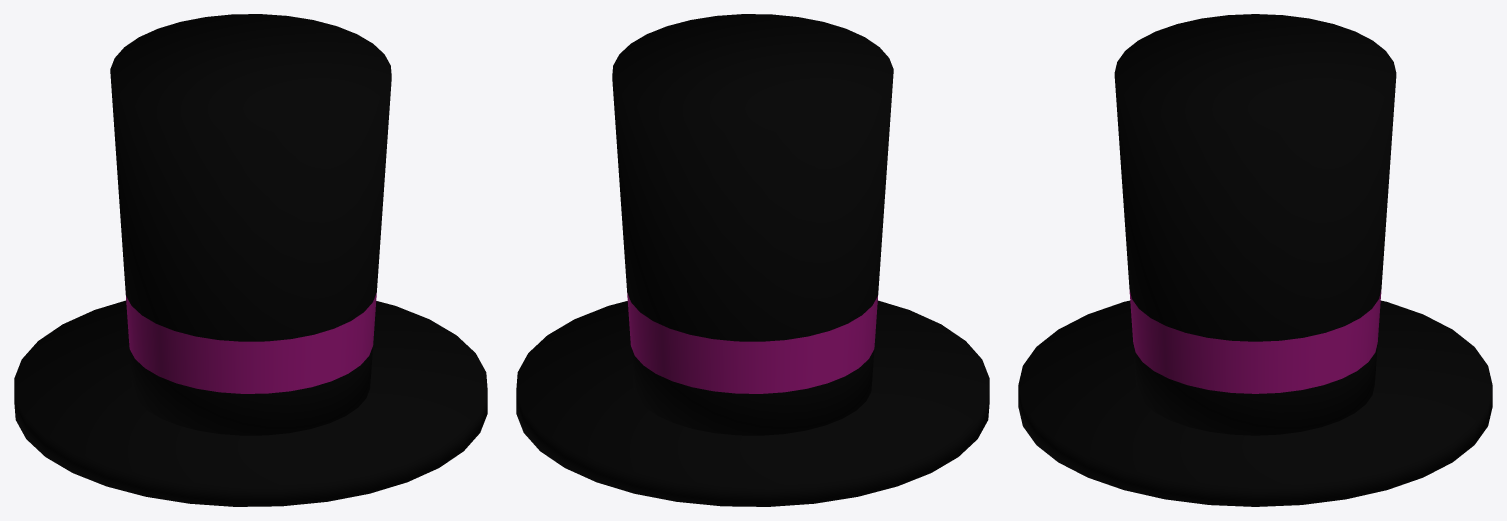
File: hat.glb
3 views of the same model, side by side, from view 1: azimuth 30°, elevation 25°; view 2: azimuth 150°, elevation 25°; view 3: azimuth 270°, elevation 25° (orthographic).
Parts seen in each view (by area): view 1: Cylinder.001; view 2: Cylinder.001; view 3: Cylinder.001.
Boxes of the visible parts, x1,y1,x2,y2 form: Cylinder.001: (14,14,487,506); Cylinder.001: (516,14,989,506); Cylinder.001: (1018,14,1492,506).
Size of the model in its own units: 2 by 1.55 by 2.
